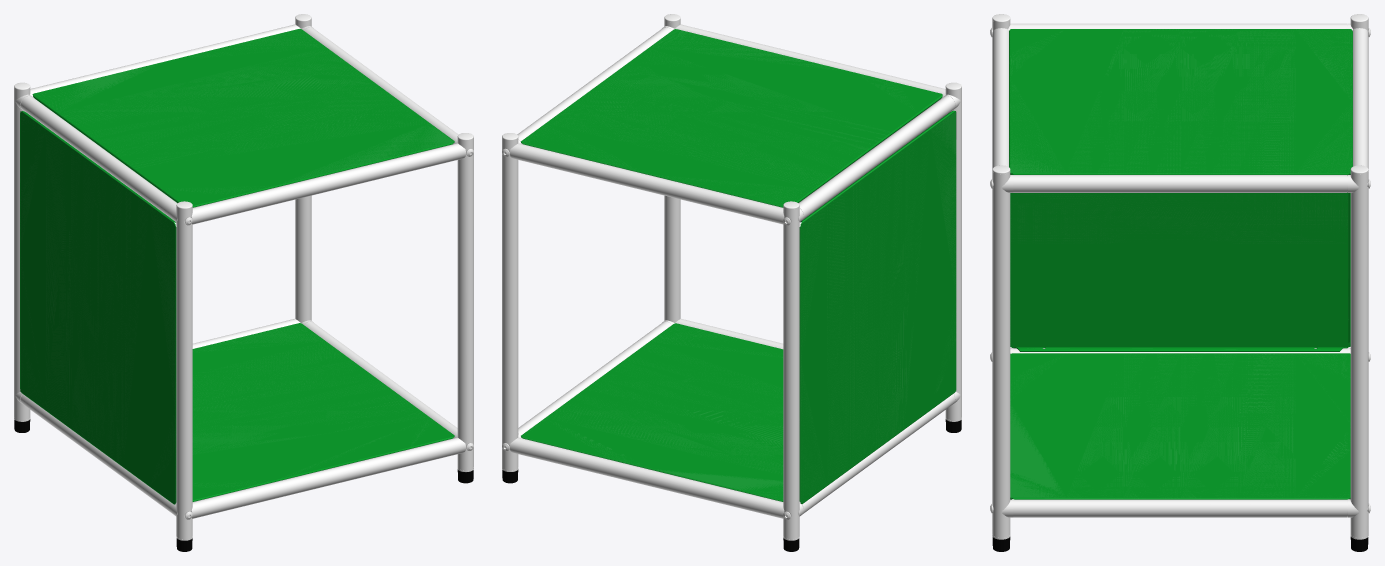
Rendered from 40x40x40-2-2-green.glb.
3 renders of one model, left to right at view 1: azimuth 30°, elevation 25°; view 2: azimuth 150°, elevation 25°; view 3: azimuth 270°, elevation 25°, orthographic. The views are drawn at different scales.
Parts seen in each view (by area): view 1: 直角鐵板-40x40-4 - 零件, 直角鐵板-40x40-5 - 零件, 直角鐵板-40x40-3 - 零件, 鐵管-1層-40-正常腳-32mm-5 - 零件, 鐵管-1層-40-正常腳-32mm-4 - 零件, 消水孔鐵管-40深-2 - 零件, 消水孔鐵管-40深-1 - 零件, 反-鐵管-40-354..4-18 - 零件, 鏡射鐵管-1層-40-正常腳-32mm-1 - 零件, 鏡射鐵管-1層-40-正常腳-32mm-2 - 零件, 反-鐵管-40-354..4-15 - 零件, 鏡射消水孔鐵管-40深-2 - 零件 (+3 smaller); view 2: 直角鐵板-40x40-4 - 零件, 直角鐵板-40x40-5 - 零件, 直角鐵板-40x40-3 - 零件, 鏡射鐵管-1層-40-正常腳-32mm-2 - 零件, 鏡射鐵管-1層-40-正常腳-32mm-1 - 零件, 鏡射消水孔鐵管-40深-2 - 零件, 鏡射消水孔鐵管-40深-1 - 零件, 反-鐵管-40-354..4-18 - 零件, 鐵管-1層-40-正常腳-32mm-4 - 零件, 鐵管-1層-40-正常腳-32mm-5 - 零件, 消水孔鐵管-40深-2 - 零件, 反-鐵管-40-354..4-15 - 零件 (+3 smaller); view 3: 直角鐵板-40x40-4 - 零件, 直角鐵板-40x40-5 - 零件, 直角鐵板-40x40-3 - 零件, 鐵管-1層-40-正常腳-32mm-4 - 零件, 鏡射鐵管-1層-40-正常腳-32mm-1 - 零件, 反-鐵管-40-354..4-1 - 零件, 反-鐵管-40-354..4-17 - 零件, 消水孔鐵管-40深-2 - 零件, 鏡射消水孔鐵管-40深-2 - 零件, 反-鐵管-40-354..4-18 - 零件, 反-鐵管-40-354..4-15 - 零件.
Boxes of the visible parts, x1,y1,x2,y2 form: 直角鐵板-40x40-4 - 零件: (20,111,176,504); 直角鐵板-40x40-5 - 零件: (32,29,454,207); 直角鐵板-40x40-3 - 零件: (192,323,454,501); 鐵管-1層-40-正常腳-32mm-5 - 零件: (176,206,192,539); 鐵管-1層-40-正常腳-32mm-4 - 零件: (457,138,473,470); 消水孔鐵管-40深-2 - 零件: (191,143,465,224); 消水孔鐵管-40深-1 - 零件: (191,437,465,518); 反-鐵管-40-354..4-18 - 零件: (20,96,177,219); 鏡射鐵管-1層-40-正常腳-32mm-1 - 零件: (295,19,311,322); 鏡射鐵管-1層-40-正常腳-32mm-2 - 零件: (14,87,30,420); 反-鐵管-40-354..4-15 - 零件: (21,394,173,514); 鏡射消水孔鐵管-40深-2 - 零件: (30,24,300,97); 直角鐵板-40x40-4 - 零件: (799,110,956,504); 直角鐵板-40x40-5 - 零件: (521,29,942,207); 直角鐵板-40x40-3 - 零件: (521,323,783,501); 鏡射鐵管-1層-40-正常腳-32mm-2 - 零件: (783,207,799,539); 鏡射鐵管-1層-40-正常腳-32mm-1 - 零件: (502,138,518,470); 鏡射消水孔鐵管-40深-2 - 零件: (510,143,784,224); 鏡射消水孔鐵管-40深-1 - 零件: (510,437,784,518); 反-鐵管-40-354..4-18 - 零件: (798,96,955,219); 鐵管-1層-40-正常腳-32mm-4 - 零件: (664,19,680,322); 鐵管-1層-40-正常腳-32mm-5 - 零件: (945,88,961,420); 消水孔鐵管-40深-2 - 零件: (675,24,945,98); 反-鐵管-40-354..4-15 - 零件: (799,394,955,514); 直角鐵板-40x40-4 - 零件: (1010,174,1350,351); 直角鐵板-40x40-5 - 零件: (1009,29,1352,174); 直角鐵板-40x40-3 - 零件: (1010,353,1350,499); 鐵管-1層-40-正常腳-32mm-4 - 零件: (992,171,1010,537); 鏡射鐵管-1層-40-正常腳-32mm-1 - 零件: (1350,171,1368,537); 反-鐵管-40-354..4-1 - 零件: (1013,499,1347,517); 反-鐵管-40-354..4-17 - 零件: (1013,175,1347,192); 消水孔鐵管-40深-2 - 零件: (992,28,1008,168); 鏡射消水孔鐵管-40深-2 - 零件: (1352,28,1368,168); 反-鐵管-40-354..4-18 - 零件: (1013,23,1347,28); 反-鐵管-40-354..4-15 - 零件: (1013,348,1347,353).
Bounding box in the file's own units: 0.3992 × 0.4454 × 0.4036.
